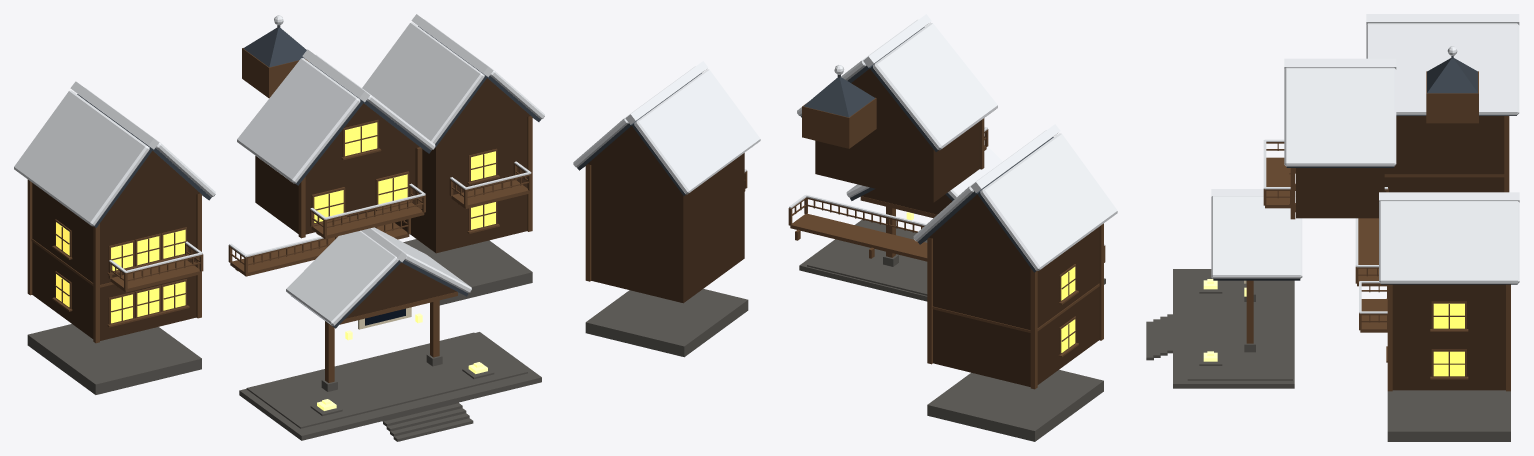
File: lodge-annex-3-adirondack.glb
3 views of the same model, side by side, from view 1: azimuth 30°, elevation 25°; view 2: azimuth 150°, elevation 25°; view 3: azimuth 270°, elevation 25° (orthographic). The views are drawn at different scales.
Parts seen in each view (by area): view 1: lodge-annex-3-adirondack; view 2: lodge-annex-3-adirondack; view 3: lodge-annex-3-adirondack.
Boxes of the visible parts, x1,y1,x2,y2 form: lodge-annex-3-adirondack: (14, 14, 544, 441); lodge-annex-3-adirondack: (573, 14, 1117, 441); lodge-annex-3-adirondack: (1146, 14, 1519, 441).
Size of the model in its own units: 31.65 by 19.83 by 22.68.
